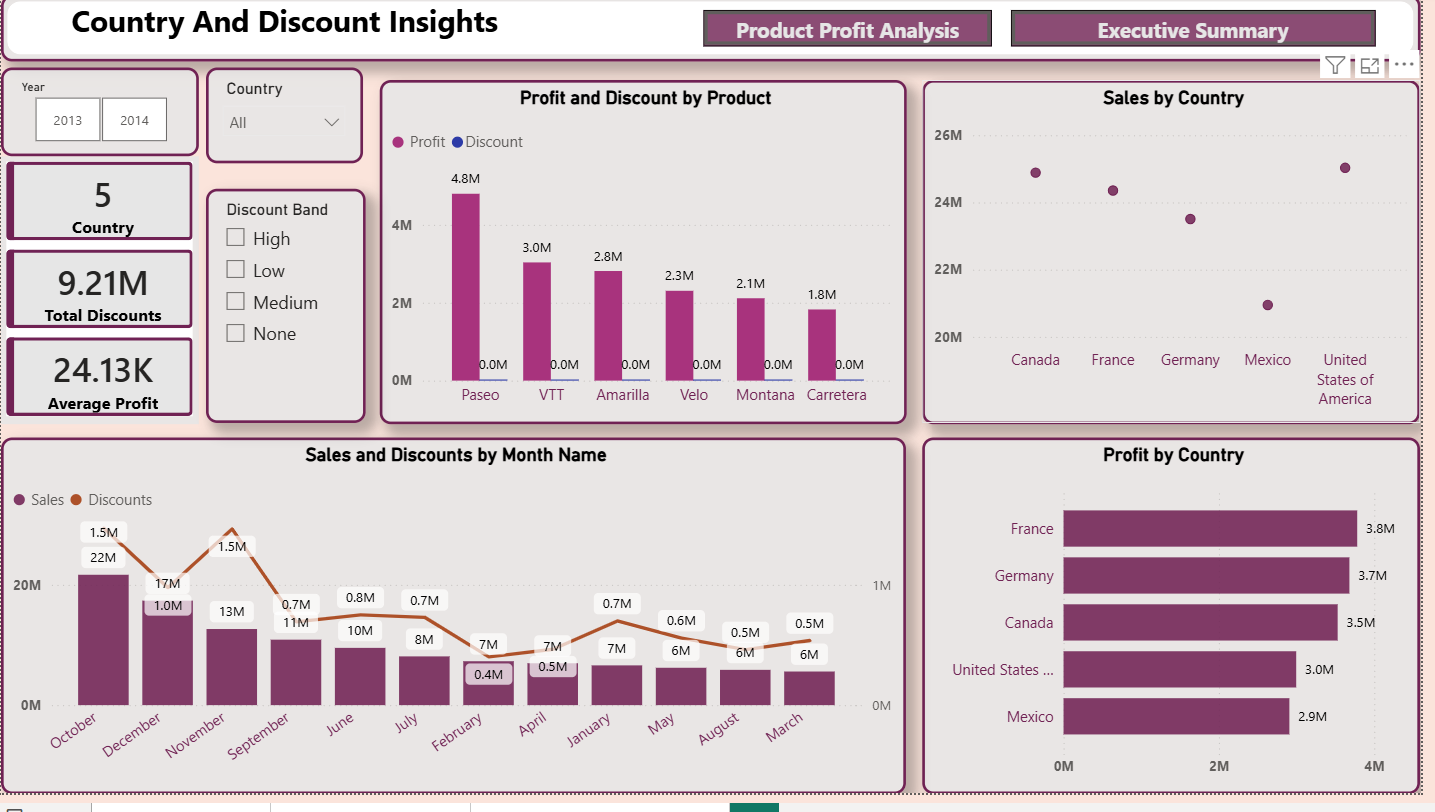

Layout of this report page (visuals, bound fields, positions):
{"tool":"powerbi","page":{"name":"Country And Discount Insights","canvas":[1280,720],"ordinal":2},"visuals":[{"type":"shape","box":[0,0,1280,60],"z":0},{"type":"textbox","box":[10,0,491.2,60],"z":1000},{"type":"cardVisual","fields":{"Data":["Count(financials.Country)","Sum(financials.Discounts)","Avg(financials.Profit)"]},"box":[0,145,178.8,241.2],"z":2000},{"type":"scatterChart","title":" Sales by Country","fields":{"X":["financials.Country"],"Y":["Sum(financials. Sales)"]},"box":[830.7,76.6,448.8,310],"z":3000},{"type":"clusteredBarChart","title":"Profit by Country","fields":{"Y":["Sum(financials.Profit)"],"Category":["financials.Country"]},"box":[831.2,398.8,448.8,321.2],"z":4000},{"type":"clusteredColumnChart","fields":{"Category":["financials.Product"],"Y":["Sum(financials.Profit)","CountNonNull(financials.Discount Band)"]},"box":[341.2,76.2,475,310],"z":5000},{"type":"lineClusteredColumnComboChart","fields":{"Y":["Sum(financials. Sales)"],"Category":["financials.Month Name"],"Y2":["Sum(financials.Discounts)"]},"box":[0,398.8,816.2,321.2],"z":6000},{"type":"slicer","fields":{"Values":["financials.Discount Band"]},"box":[185,175,143.8,211.2],"z":7000},{"type":"slicer","fields":{"Values":["financials.Year"]},"box":[0,65,178.8,80],"z":8000},{"type":"slicer","fields":{"Values":["financials.Country"]},"box":[185,65,141.2,86.2],"z":9000},{"type":"actionButton","title":"Product Profit Analysis","box":[633.8,13.8,260,32.5],"z":10000},{"type":"actionButton","title":"Product Profit Analysis","box":[911.2,13.8,328.8,32.5],"z":11000}]}

Visuals, with their boxes in screenshot pixels (x1, y1, x2, y2), scaled from the page's 1280x720 canvas onto the 1435x812 screenshot:
shape: <region>0, 0, 1434, 68</region>
textbox: <region>11, 0, 562, 68</region>
cardVisual - Count(financials.Country) x Sum(financials.Discounts): <region>0, 164, 200, 436</region>
" Sales by Country" scatterChart: <region>931, 86, 1434, 436</region>
"Profit by Country" clusteredBarChart: <region>932, 450, 1434, 811</region>
clusteredColumnChart - financials.Product x Sum(financials.Profit): <region>383, 86, 915, 436</region>
lineClusteredColumnComboChart - Sum(financials. Sales) x financials.Month Name: <region>0, 450, 915, 811</region>
slicer - financials.Discount Band: <region>207, 197, 369, 436</region>
slicer - financials.Year: <region>0, 73, 200, 164</region>
slicer - financials.Country: <region>207, 73, 366, 171</region>
"Product Profit Analysis" actionButton: <region>711, 16, 1002, 52</region>
"Product Profit Analysis" actionButton: <region>1022, 16, 1390, 52</region>
